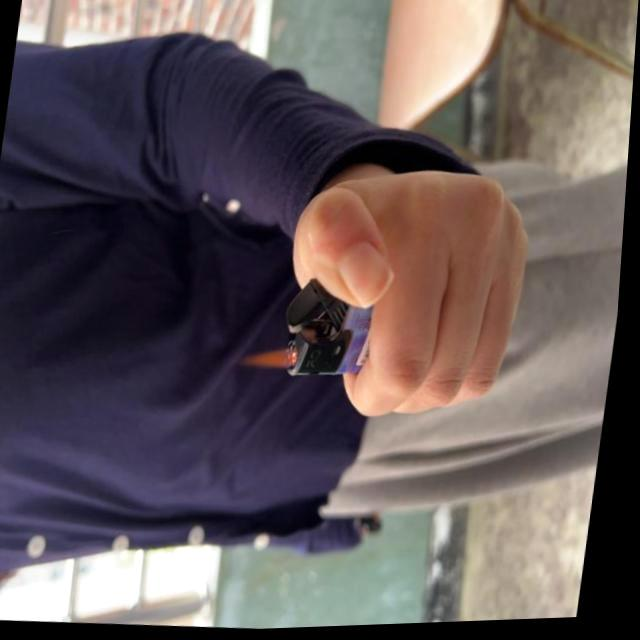fire: (243, 344, 303, 372)
